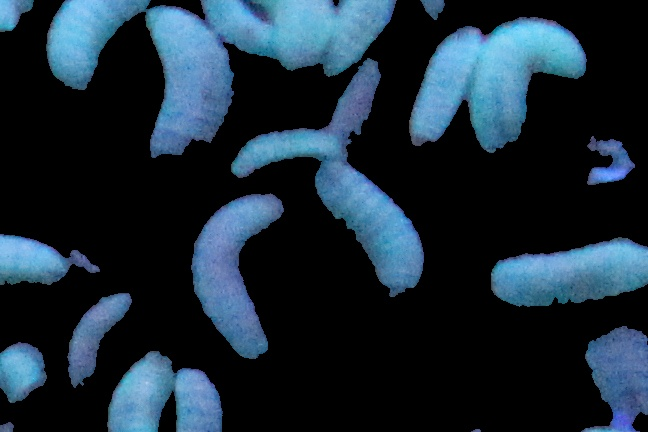larvae: (190, 192, 285, 359), (316, 159, 427, 295), (149, 5, 234, 176), (478, 17, 586, 151), (488, 237, 648, 307), (46, 1, 147, 89), (412, 24, 479, 149), (62, 292, 134, 387), (230, 129, 348, 176), (105, 354, 175, 432), (264, 1, 329, 74), (331, 1, 397, 71), (199, 1, 276, 54), (1, 234, 67, 289), (169, 368, 224, 432)
